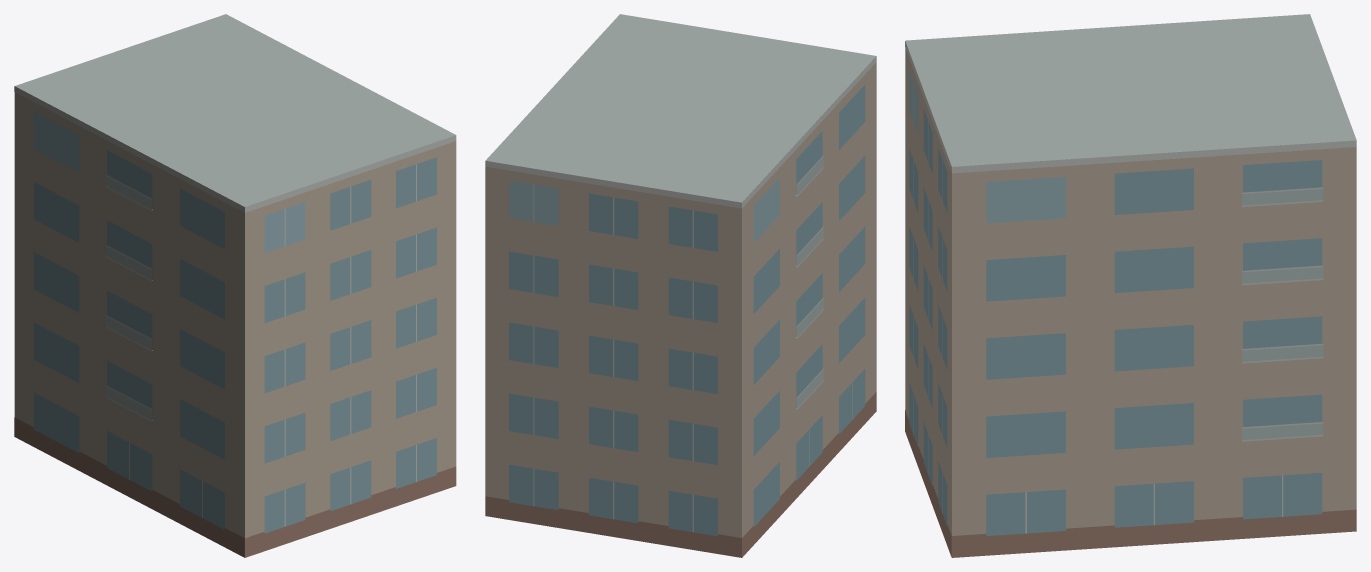
The model's file is survey-upis-32745623.glb.
The picture shows the model from 3 angles, left to right: view 1: azimuth 30°, elevation 25°; view 2: azimuth 150°, elevation 25°; view 3: azimuth 270°, elevation 25°; orthographic projection. The views are drawn at different scales.
Parts seen in each view (by area): view 1: survey-upis-32745623.tmp; view 2: survey-upis-32745623.tmp; view 3: survey-upis-32745623.tmp.
Part boxes in pixels (box(x1,y1,x2,y2)): survey-upis-32745623.tmp: box(14, 14, 456, 557); survey-upis-32745623.tmp: box(485, 14, 876, 557); survey-upis-32745623.tmp: box(905, 14, 1356, 557).
Bounding box in the file's own units: 12.34 × 14.7 × 15.4.
